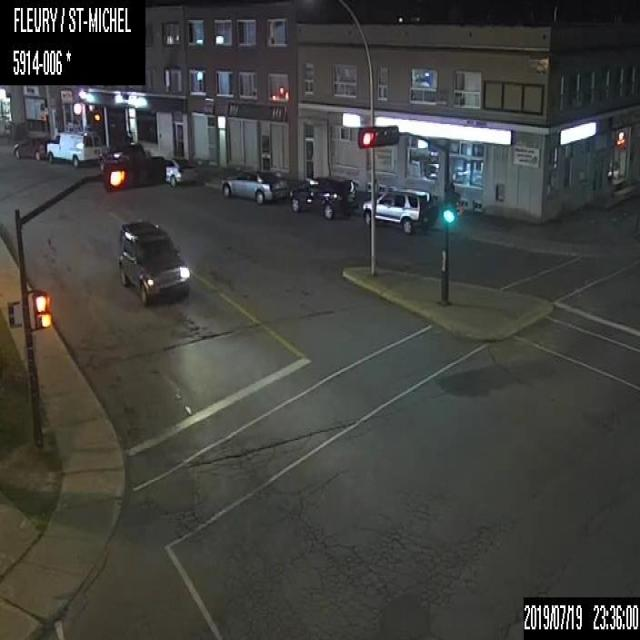vehicle: (115, 219, 190, 305), (360, 185, 436, 232), (285, 171, 357, 220), (217, 164, 289, 205), (44, 130, 100, 170), (12, 133, 48, 160), (164, 156, 197, 185)
